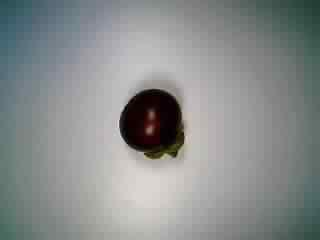mangosteen: (114, 87, 187, 160)
